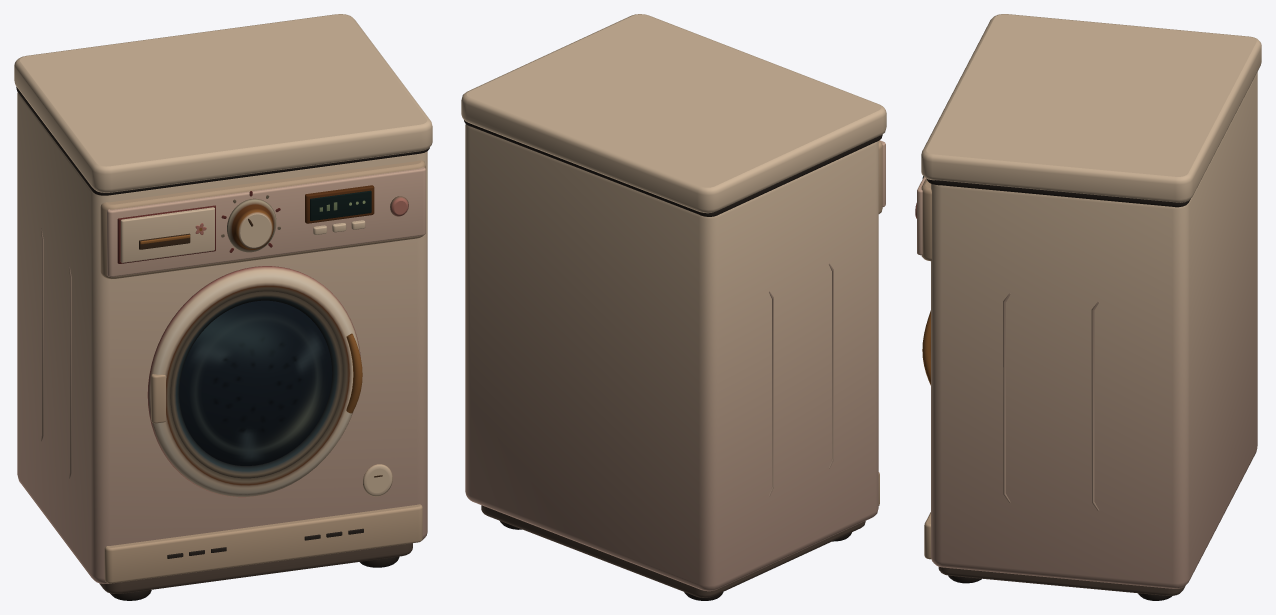
The model's file is SM_BunkerLaundry.fbx.
3 renders of one model, left to right at view 1: azimuth 30°, elevation 25°; view 2: azimuth 150°, elevation 25°; view 3: azimuth 270°, elevation 25°, orthographic. The views are drawn at different scales.
Visible parts, largest first — view 1: SM_BunkerLaundry; view 2: SM_BunkerLaundry; view 3: SM_BunkerLaundry.
Boxes of the visible parts, box(x1,y1,x2,y2) form: SM_BunkerLaundry: box(14, 14, 432, 600); SM_BunkerLaundry: box(461, 14, 886, 600); SM_BunkerLaundry: box(915, 14, 1261, 600).
Bounding box in the file's own units: 90.73 × 79.51 × 111.
